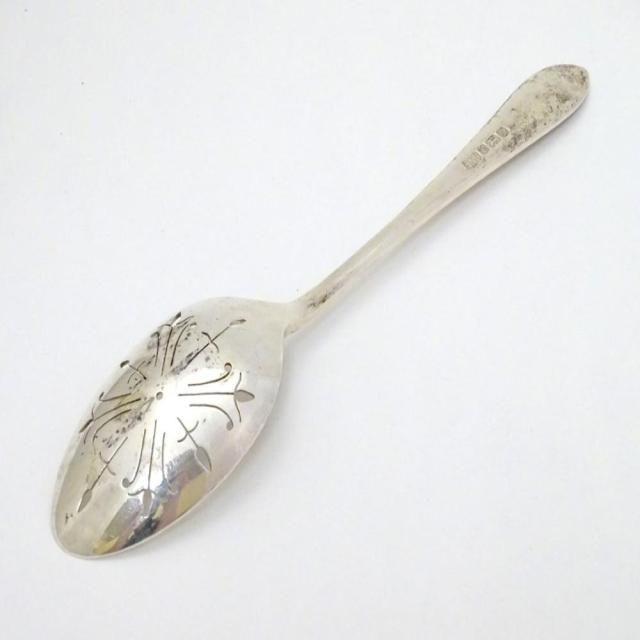spoon: (41, 49, 602, 574)
